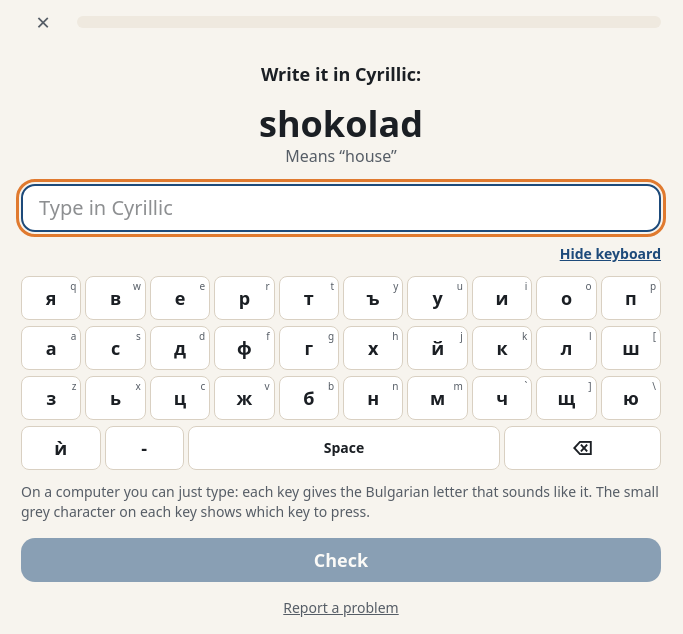
Scenario: ExerciseSession › forgives a typo in a long word and shows the note
The image size is (683, 634).
Type "шокалад" into the field named "Your answer" at (341, 208), box [21,184,661,232]
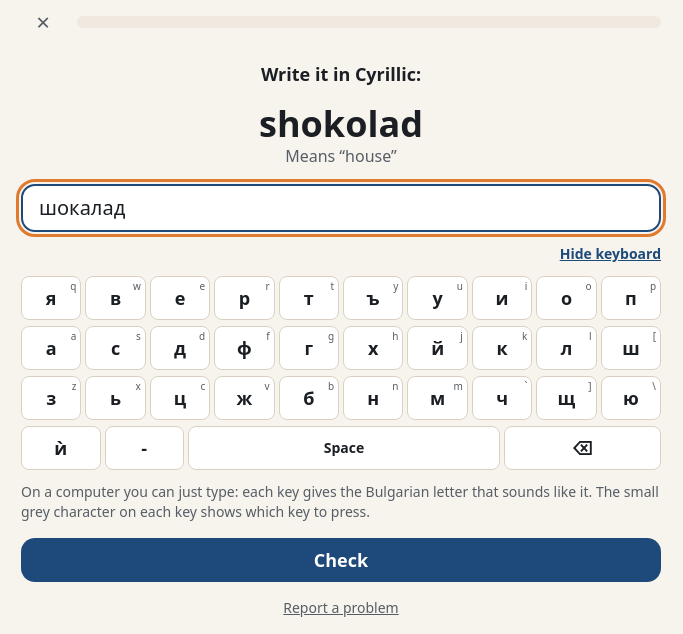
Click the button "Check" at (341, 560), box [21,538,661,582]
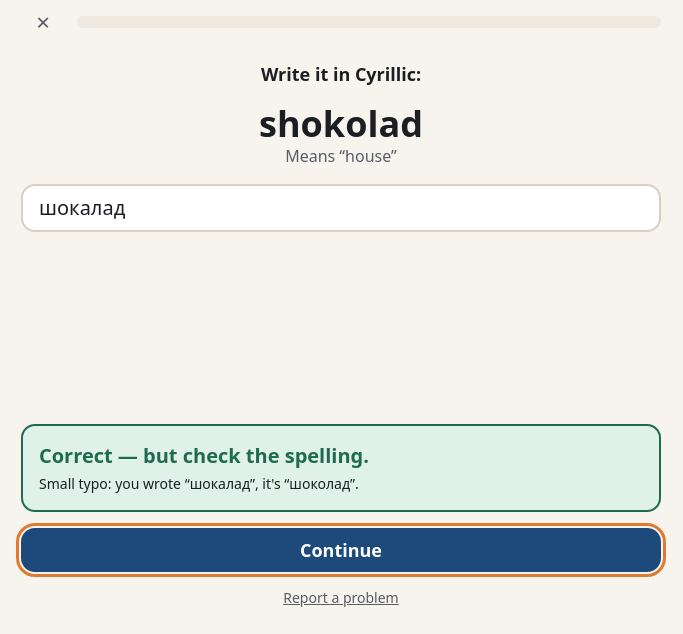
Expected: the text "Correct — but check the spelling." is shown, [39,442,369,469]
Expected: the text "Small typo: you wrote “шокалад”, it's “шоколад”." is shown, [39,474,359,493]
